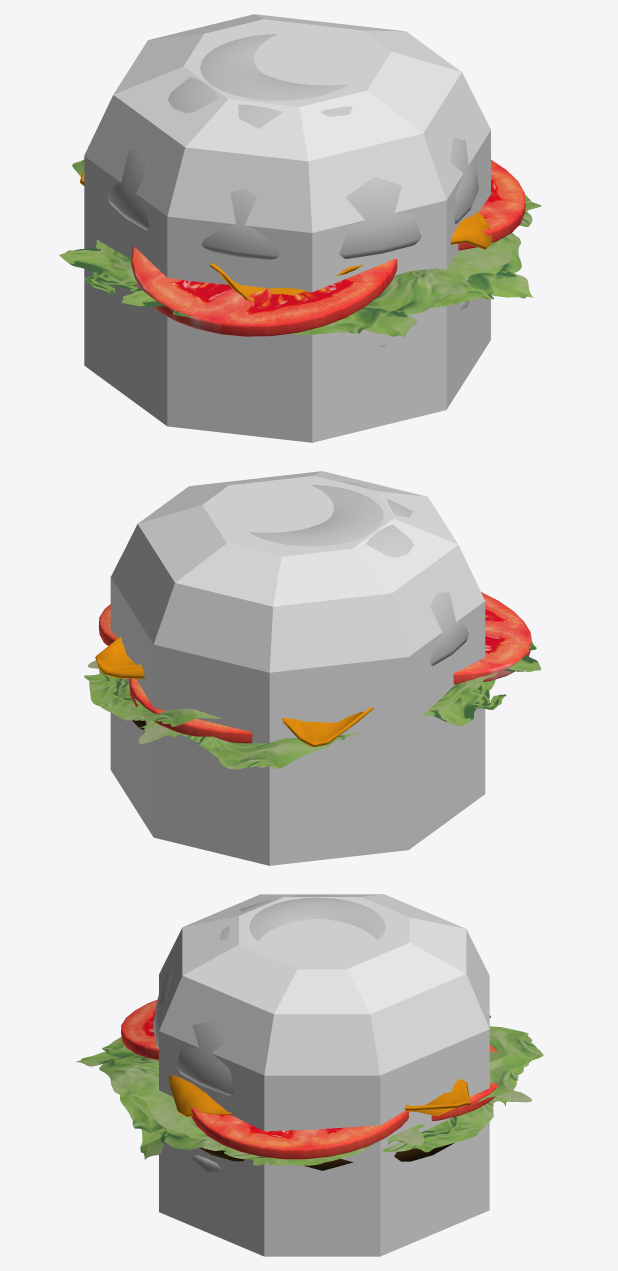
The model's file is burger.fbx.
3 views of the same model, one above another, from view 1: azimuth 30°, elevation 25°; view 2: azimuth 150°, elevation 25°; view 3: azimuth 270°, elevation 25° (orthographic). The views are drawn at different scales.
Visible parts, largest first — view 1: burger.cols, burger.lod0; view 2: burger.cols, burger.lod0; view 3: burger.cols, burger.lod0.
Part boxes in pixels (x1=…): burger.cols: x1=84, y1=14, x2=490, y2=442; burger.lod0: x1=59, y1=34, x2=541, y2=347; burger.cols: x1=110, y1=471, x2=485, y2=865; burger.lod0: x1=84, y1=481, x2=541, y2=769; burger.cols: x1=159, y1=894, x2=489, y2=1256; burger.lod0: x1=75, y1=894, x2=543, y2=1172.
Size of what is drawn, in the model's own units: 334 by 171 by 357.
